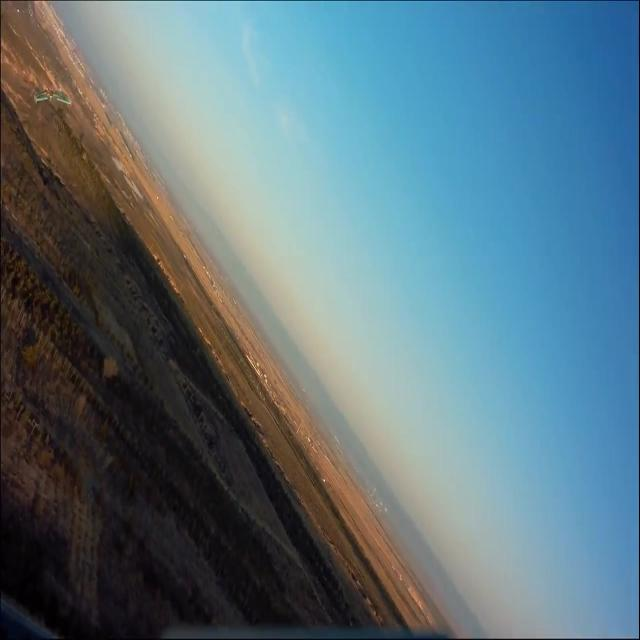iha: (33, 23, 72, 44)
